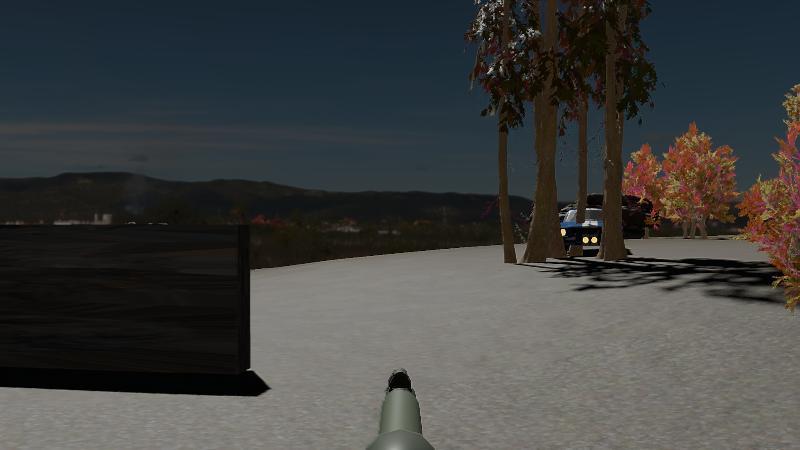car: (558, 206, 609, 255)
